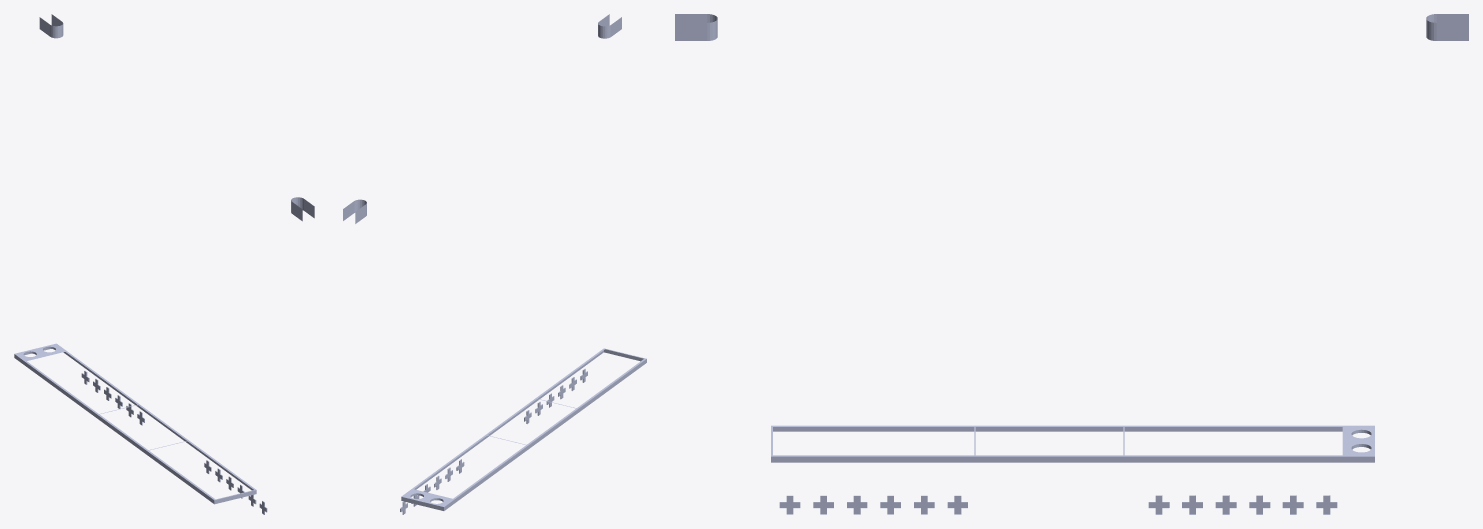
File: zatana_terra_base_vis_38.dae
3 views of the same model, side by side, from view 1: azimuth 30°, elevation 25°; view 2: azimuth 150°, elevation 25°; view 3: azimuth 270°, elevation 25° (orthographic). The views are drawn at different scales.
Visible parts, largest first — view 1: Node_000002318374BEC0; view 2: Node_000002318374BEC0; view 3: Node_000002318374BEC0.
Boxes of the visible parts, box(x1,y1,x2,y2) form: Node_000002318374BEC0: box(14, 14, 314, 514); Node_000002318374BEC0: box(343, 14, 646, 514); Node_000002318374BEC0: box(675, 14, 1468, 514).
Size of the model in its own units: 0.0228 by 0.1054 by 0.1513.
